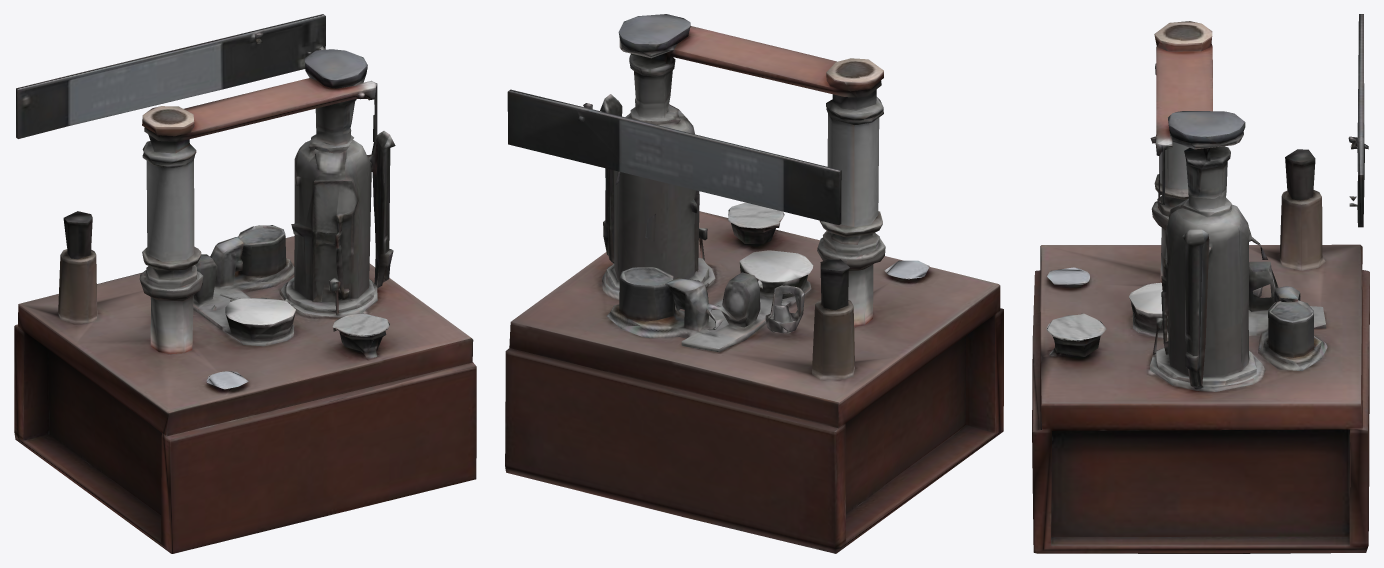
Rendered from lab_bench.glb.
The picture shows the model from 3 angles, left to right: view 1: azimuth 30°, elevation 25°; view 2: azimuth 150°, elevation 25°; view 3: azimuth 270°, elevation 25°; orthographic projection. The views are drawn at different scales.
Visible parts, largest first — view 1: lab_bench; view 2: lab_bench; view 3: lab_bench.
Part boxes in pixels (x1,y1,x2,y2): lab_bench: (14, 14, 476, 553); lab_bench: (505, 14, 1003, 553); lab_bench: (1032, 14, 1369, 553).
Bounding box in the file's own units: 0.8584 × 0.9968 × 0.7609.
1 material, 1 textured.
